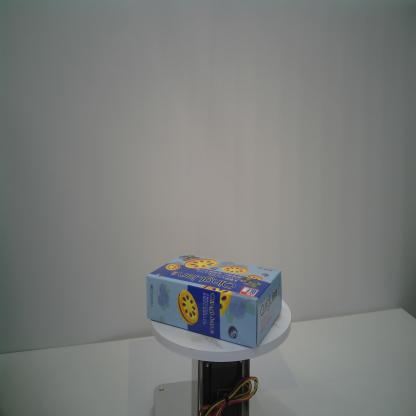Dessert: (146, 252, 282, 350)
